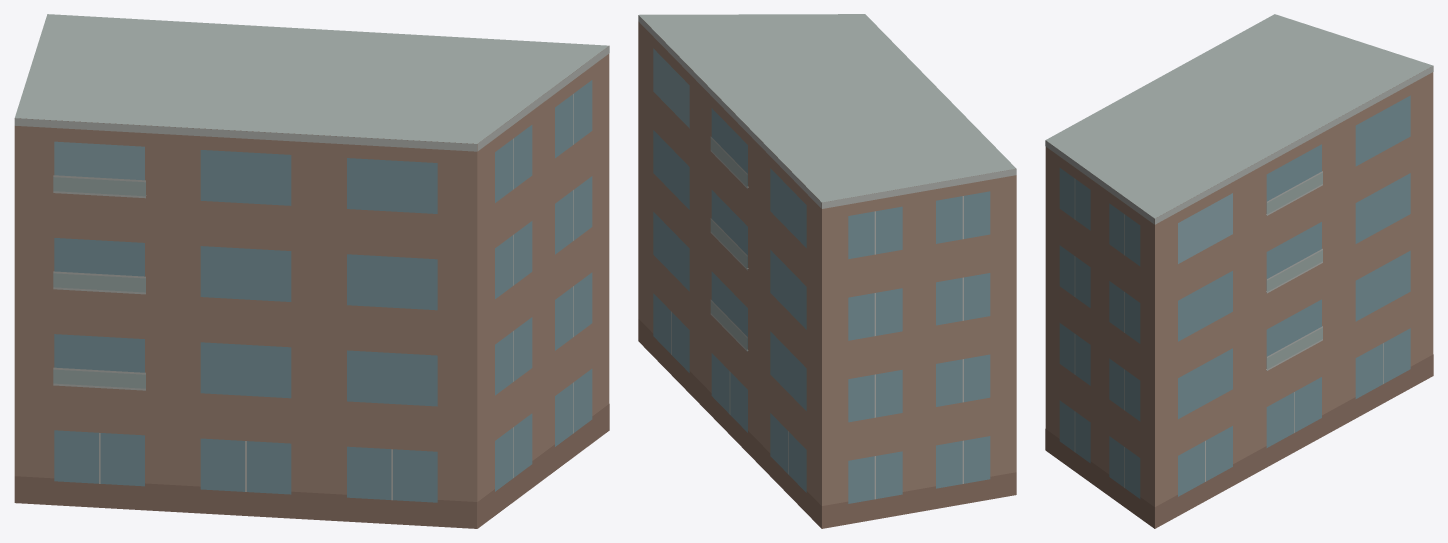
File: residential-84454199-4ce8-4aa0-8e7a-7ccdb54100f2.glb
3 renders of one model, left to right at view 1: azimuth 30°, elevation 25°; view 2: azimuth 150°, elevation 25°; view 3: azimuth 270°, elevation 25°, orthographic. The views are drawn at different scales.
Parts seen in each view (by area): view 1: residential-84454199-4ce8-4aa0-8e7a-7ccdb54100f2.tmp; view 2: residential-84454199-4ce8-4aa0-8e7a-7ccdb54100f2.tmp; view 3: residential-84454199-4ce8-4aa0-8e7a-7ccdb54100f2.tmp.
Part boxes in pixels (x1,y1,x2,y2): residential-84454199-4ce8-4aa0-8e7a-7ccdb54100f2.tmp: (14,14,609,528); residential-84454199-4ce8-4aa0-8e7a-7ccdb54100f2.tmp: (638,14,1016,528); residential-84454199-4ce8-4aa0-8e7a-7ccdb54100f2.tmp: (1045,14,1433,528).
Size of the model in its own units: 17.27 by 12.2 by 13.84.
